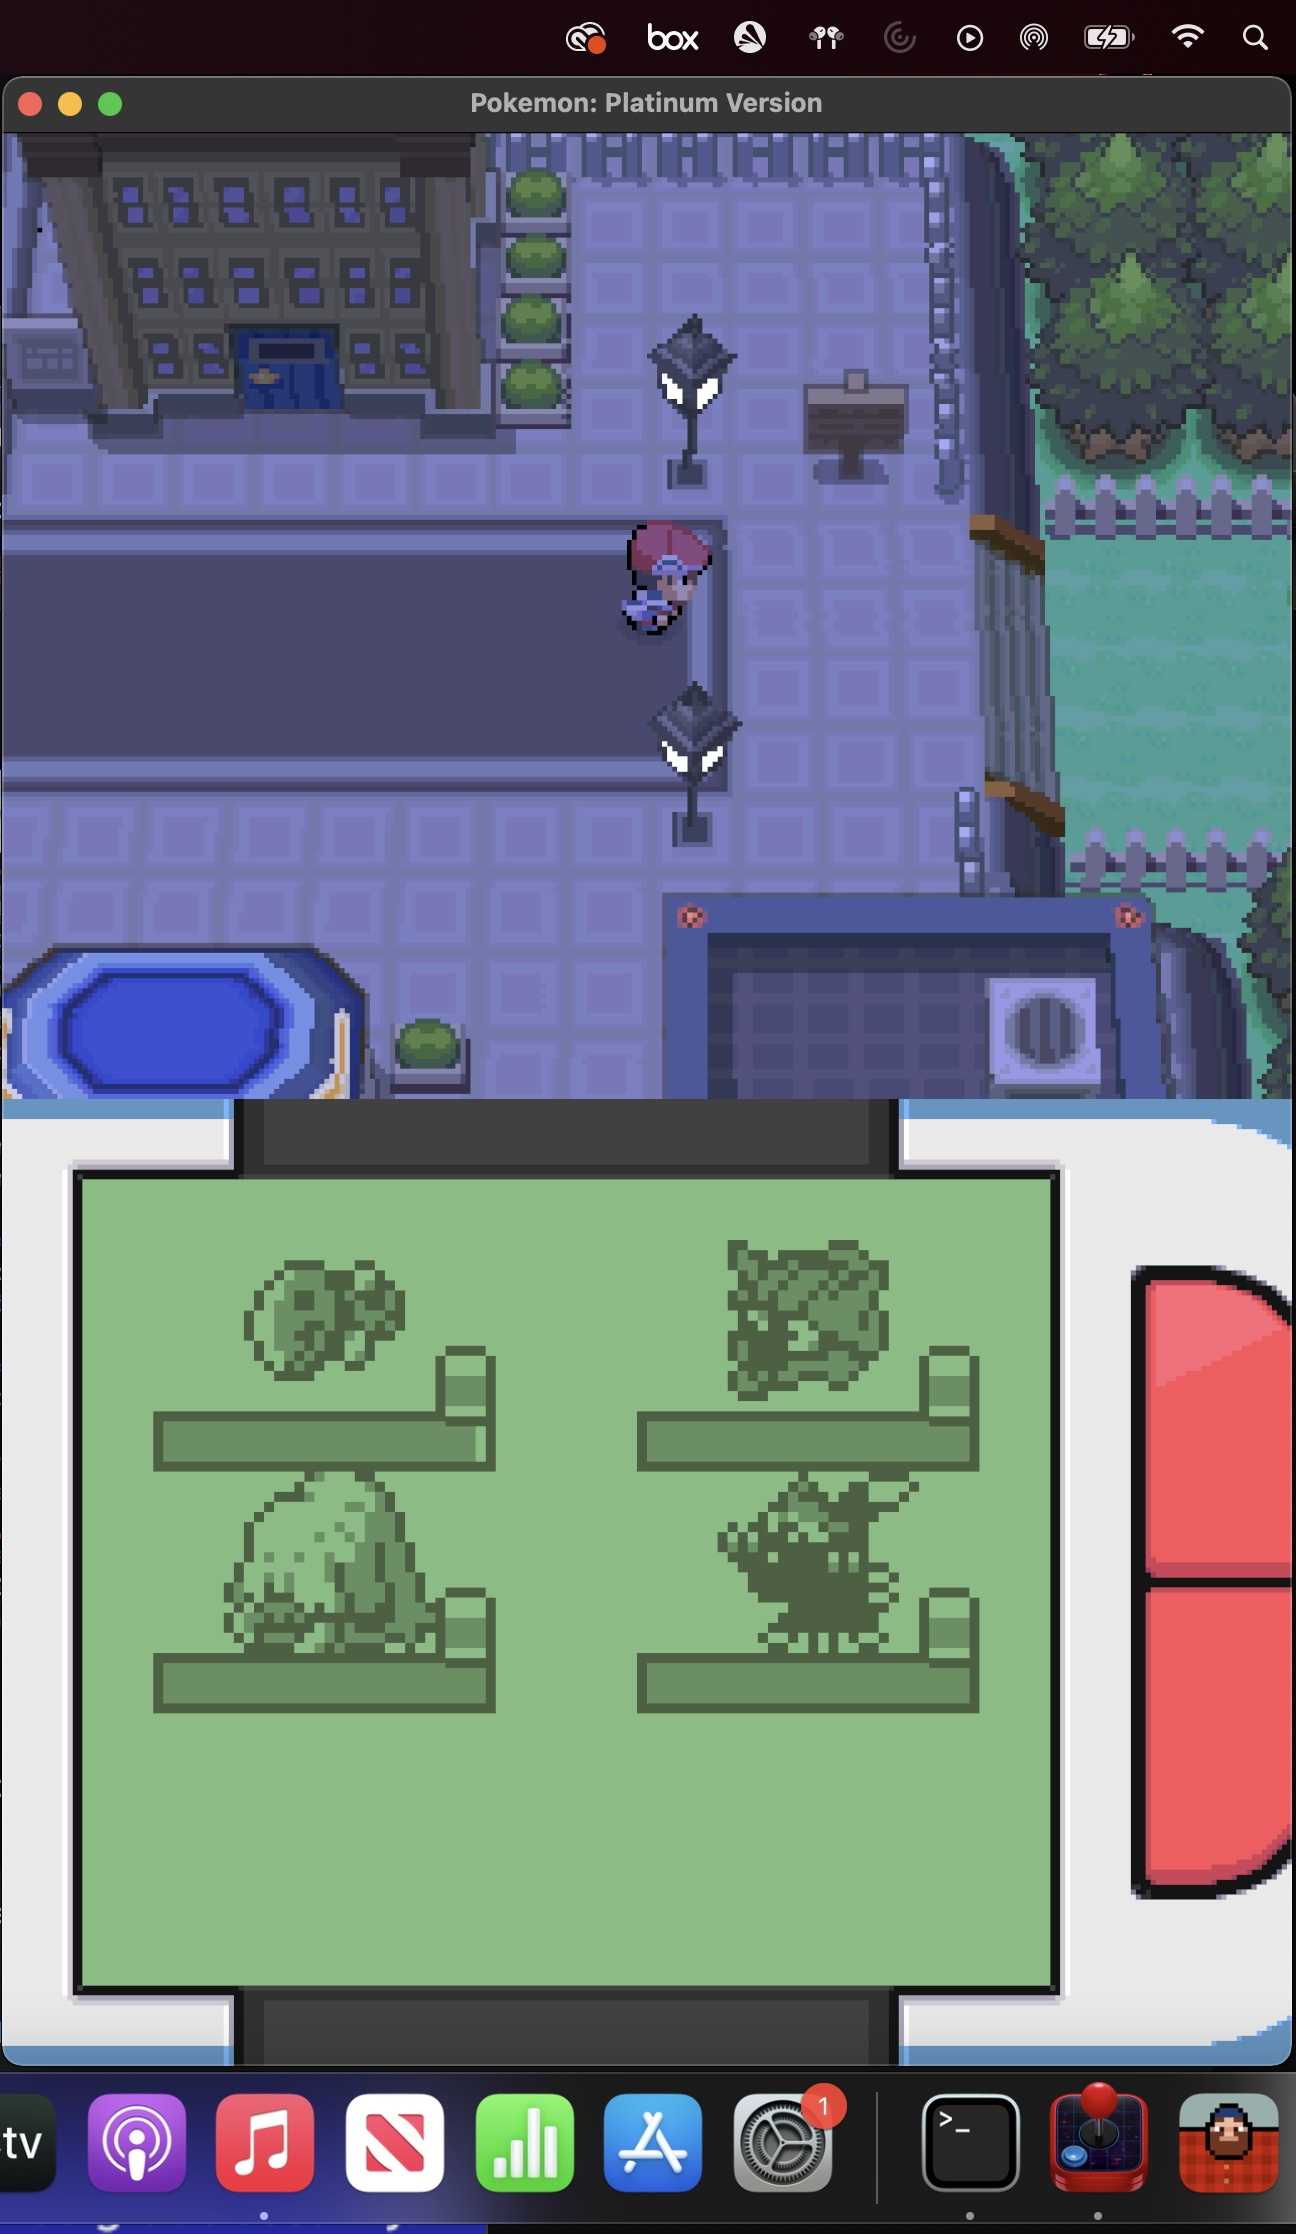player: (612, 513, 719, 643)
turn left: (644, 302, 923, 494)
